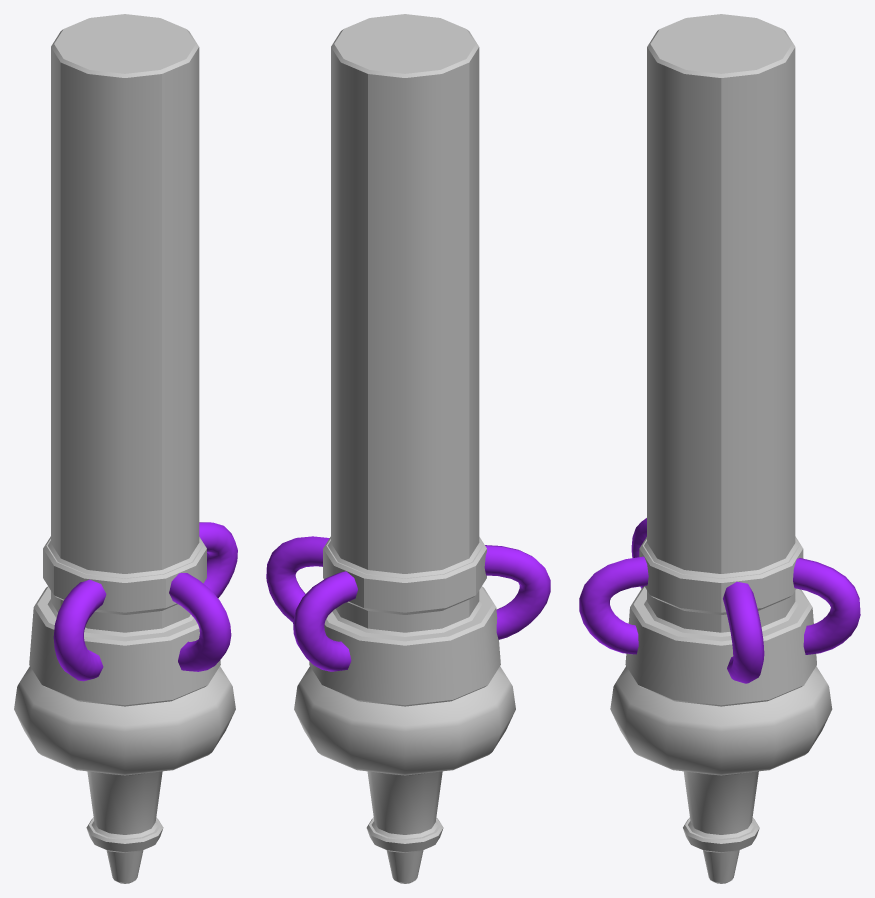
File: davkovac.obj
3 views of the same model, side by side, from view 1: azimuth 30°, elevation 25°; view 2: azimuth 150°, elevation 25°; view 3: azimuth 270°, elevation 25° (orthographic).
Parts seen in each view (by area): view 1: Cylinder, BézierCurve, BézierCurve.003, BézierCurve.002; view 2: Cylinder, BézierCurve.001, BézierCurve.003, BézierCurve.002; view 3: Cylinder, BézierCurve, BézierCurve.001, BézierCurve.002.
Boxes of the visible parts, x1=… form: Cylinder: x1=14, y1=14, x2=235, y2=883; BézierCurve: x1=169, y1=573, x2=231, y2=671; BézierCurve.003: x1=53, y1=579, x2=106, y2=681; BézierCurve.002: x1=199, y1=522, x2=237, y2=598; Cylinder: x1=294, y1=14, x2=515, y2=883; BézierCurve.001: x1=293, y1=571, x2=357, y2=671; BézierCurve.003: x1=484, y1=545, x2=550, y2=639; BézierCurve.002: x1=266, y1=536, x2=329, y2=622; Cylinder: x1=610, y1=14, x2=832, y2=883; BézierCurve: x1=579, y1=556, x2=648, y2=654; BézierCurve.001: x1=793, y1=558, x2=860, y2=654; BézierCurve.002: x1=723, y1=581, x2=764, y2=683.
Size of the model in its own units: 4.22 by 14.65 by 4.46.
